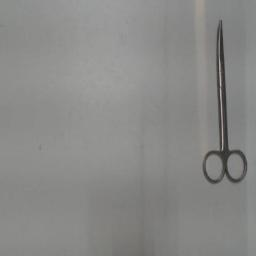Curved Mayo Scissors: (199, 14, 251, 188)
